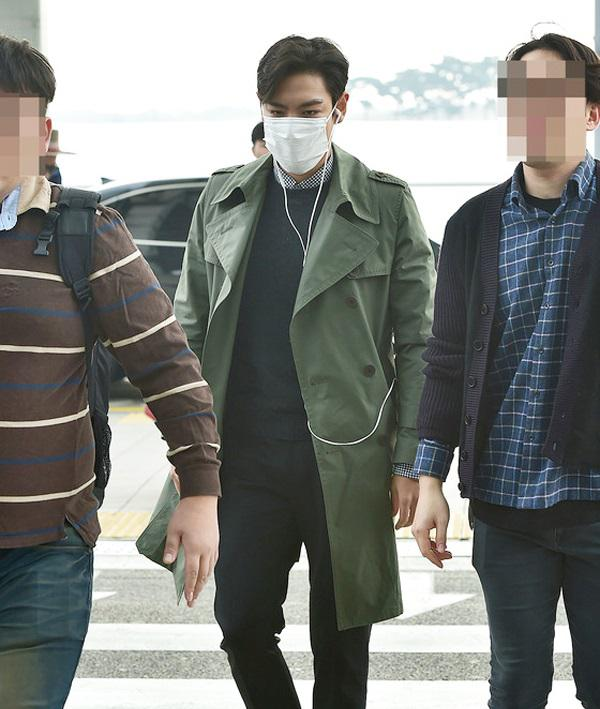OK: (261, 94, 341, 174)
